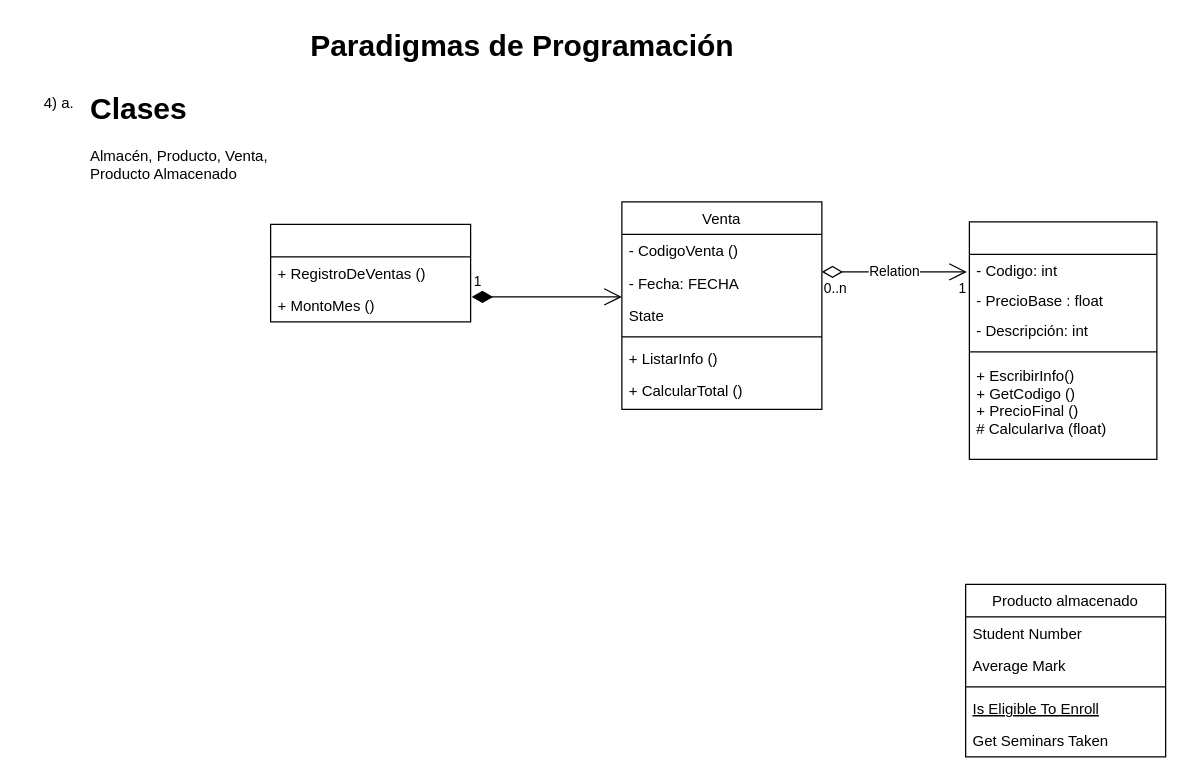
This 1188x781 diagram has some shape labels left out. Here are the shapes that lost their labels. From the top down, the box of each, then its label:
(269, 223, 471, 322): Almacén
(968, 221, 1157, 459): Producto
